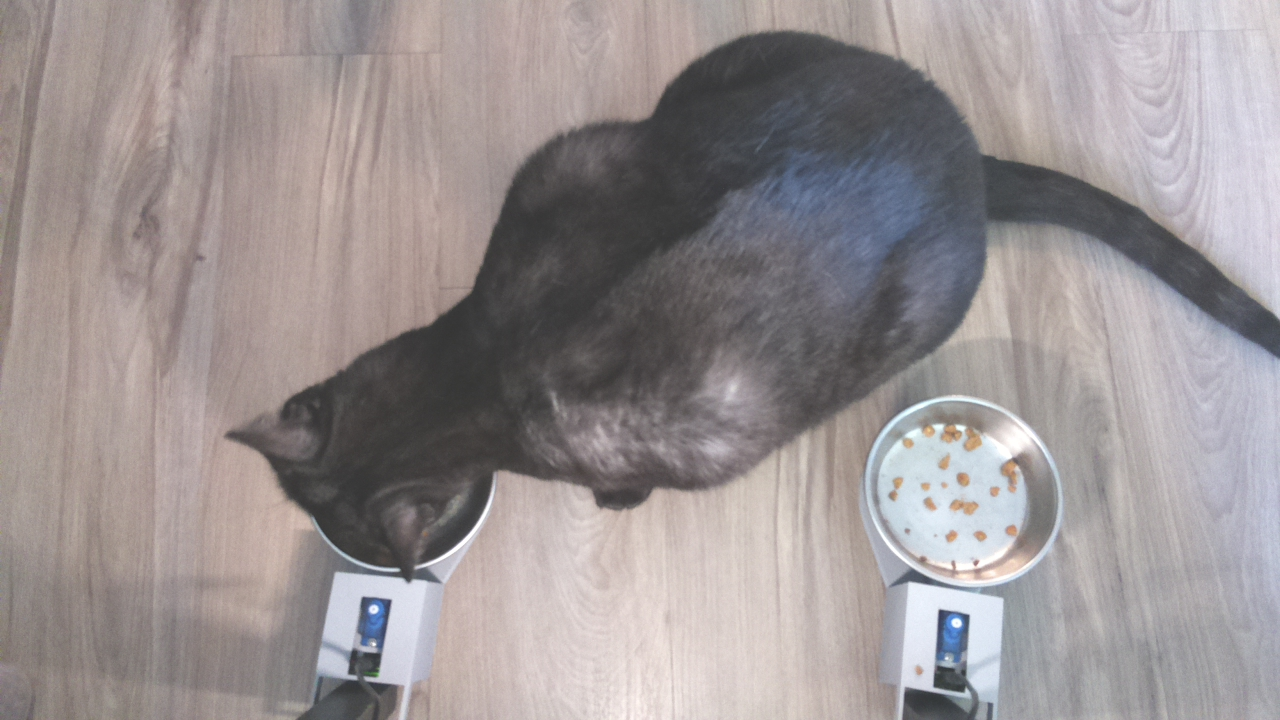open_bowl: (861, 390, 1068, 591)
saki_eating: (213, 300, 522, 600)
